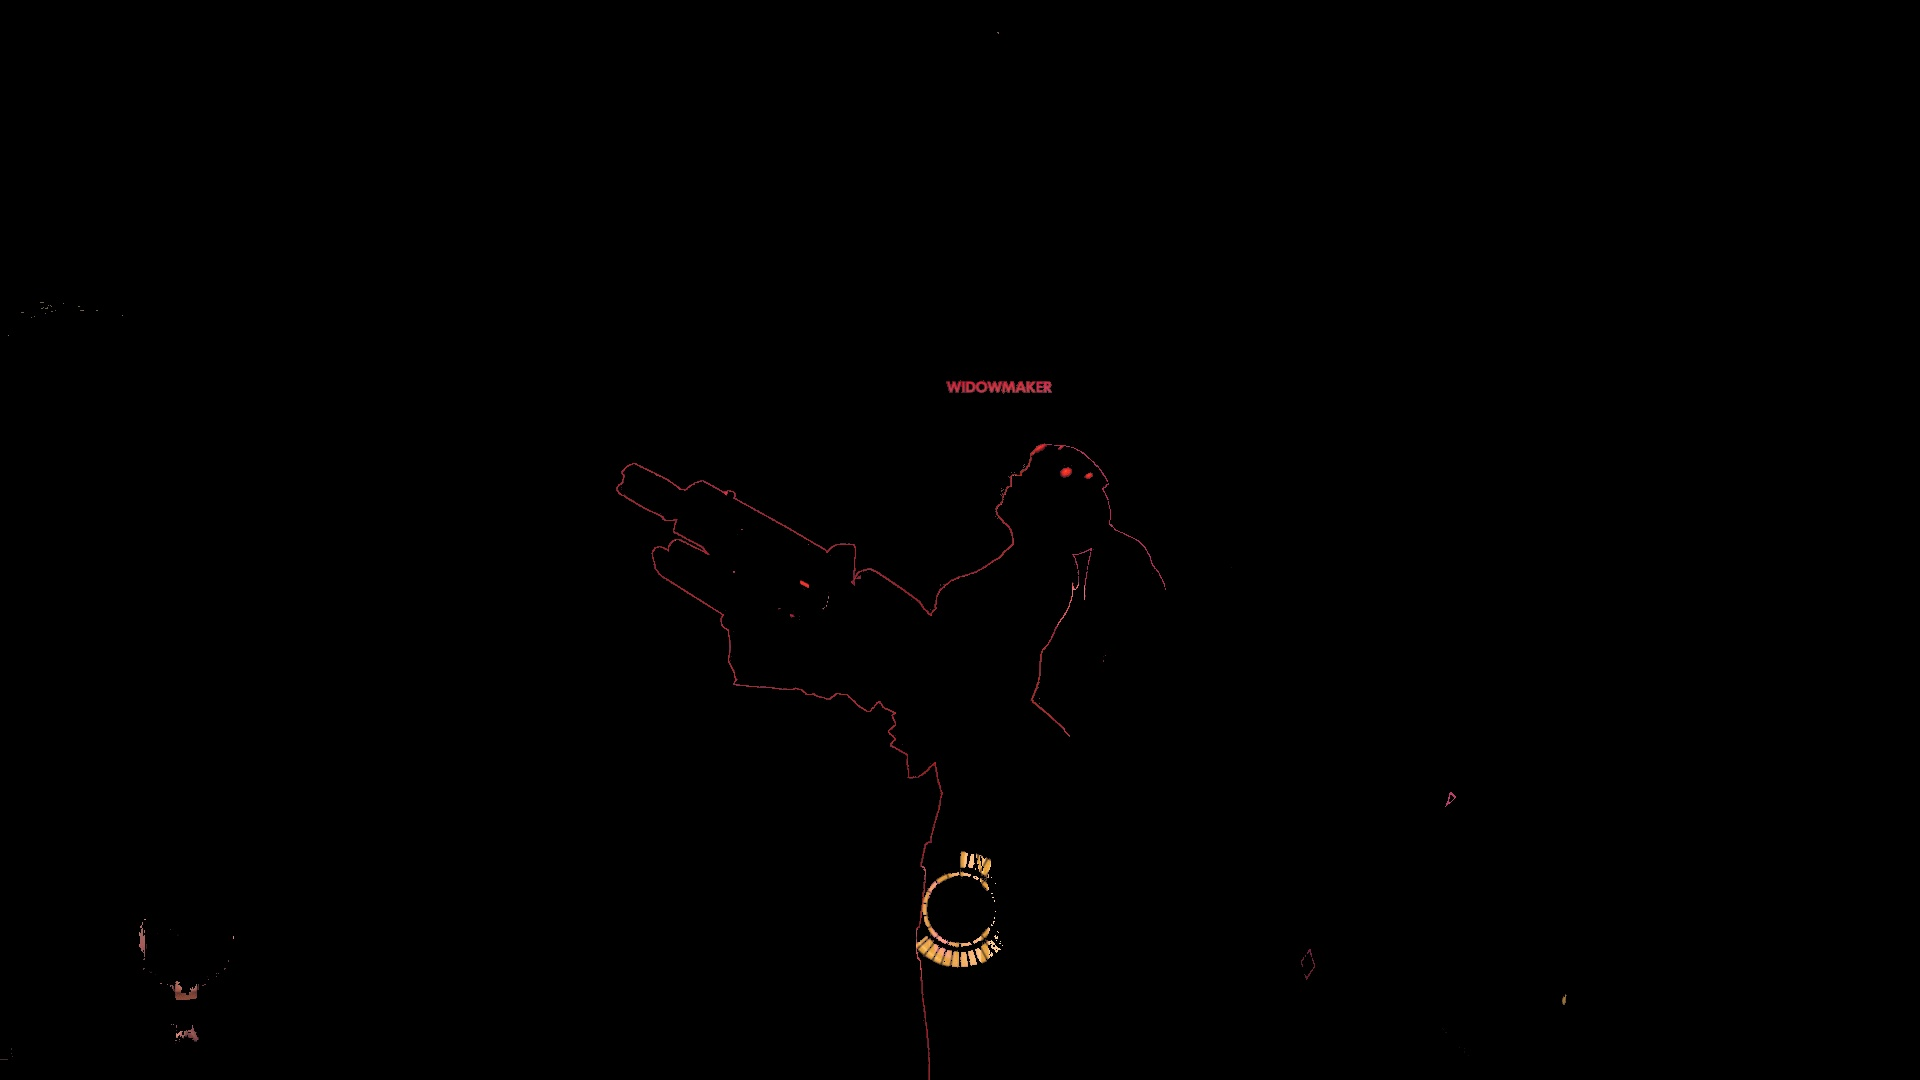widowmaker: (618, 442, 1174, 1080)
